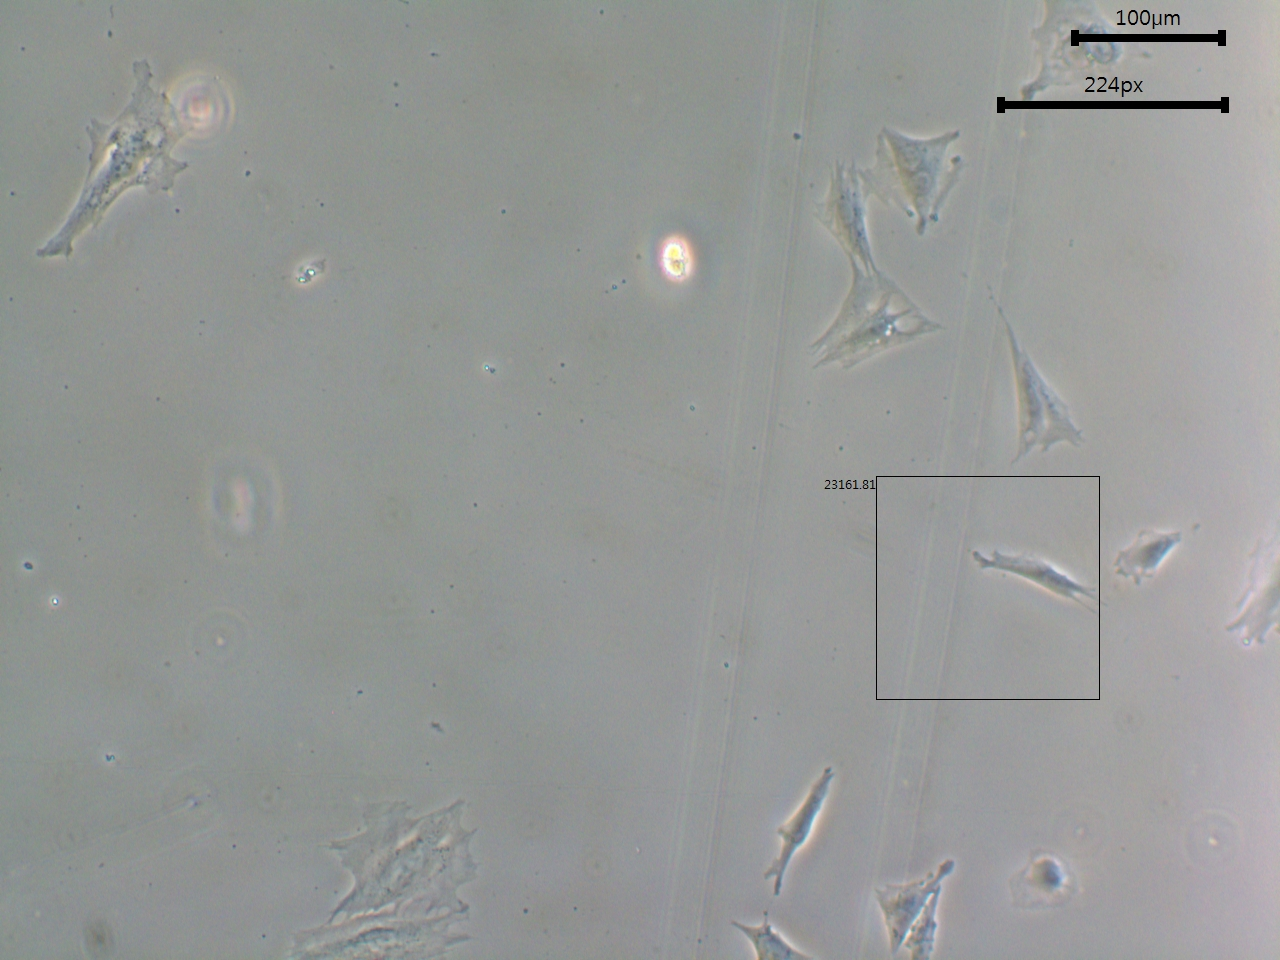medium-polygonal: (29, 49, 193, 276), (971, 278, 1093, 465)
small-polygonal: (754, 763, 850, 909), (963, 537, 1093, 622), (1108, 521, 1187, 589)
small-round: (993, 836, 1094, 922)
